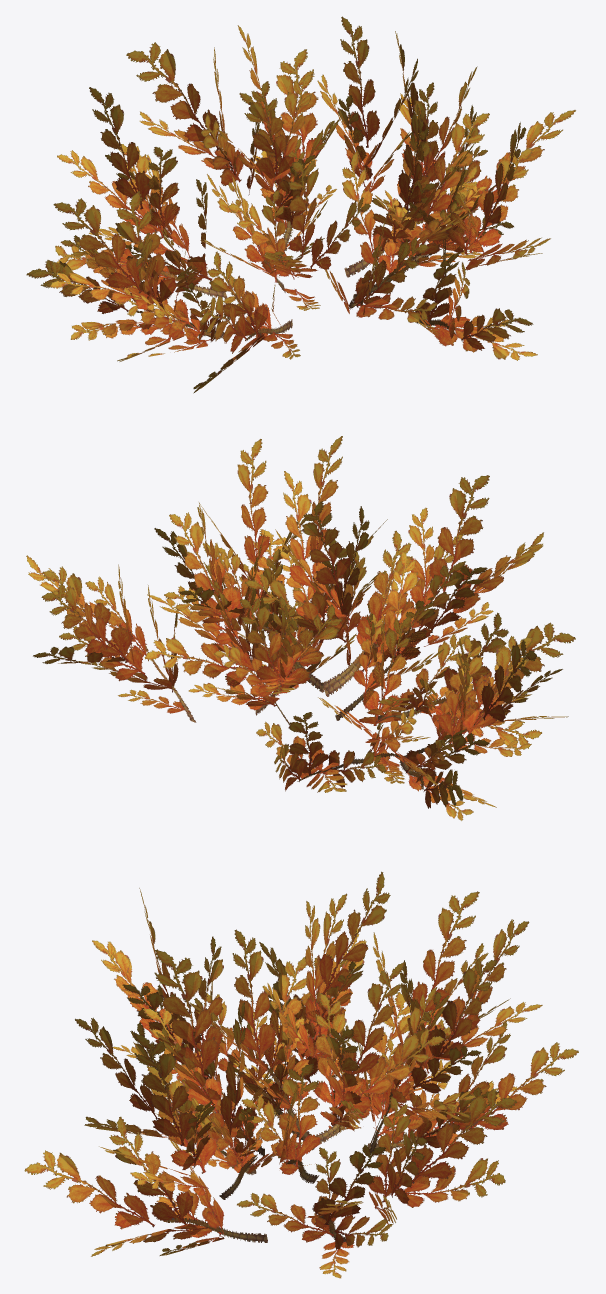
Rendered from plant_lobbynew02_zhiwu_xiaoshu.FBX.
3 renders of one model, top to bottom at view 1: azimuth 30°, elevation 25°; view 2: azimuth 150°, elevation 25°; view 3: azimuth 270°, elevation 25°, orthographic. The views are drawn at different scales.
Visible parts, largest first — view 1: plant_lobbynew02_zhiwu_xiaoshu; view 2: plant_lobbynew02_zhiwu_xiaoshu; view 3: plant_lobbynew02_zhiwu_xiaoshu.
Part boxes in pixels (<box>): plant_lobbynew02_zhiwu_xiaoshu: <box>26,16,575,393</box>; plant_lobbynew02_zhiwu_xiaoshu: <box>26,436,575,820</box>; plant_lobbynew02_zhiwu_xiaoshu: <box>24,871,578,1278</box>.
Size of the model in its own units: 183 by 153 by 99.73.
